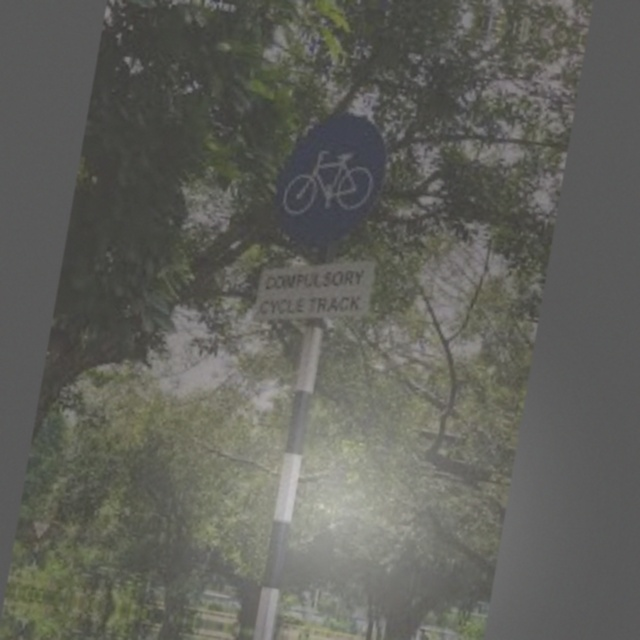Compulsory_Cycle_Track: (263, 103, 406, 258)
